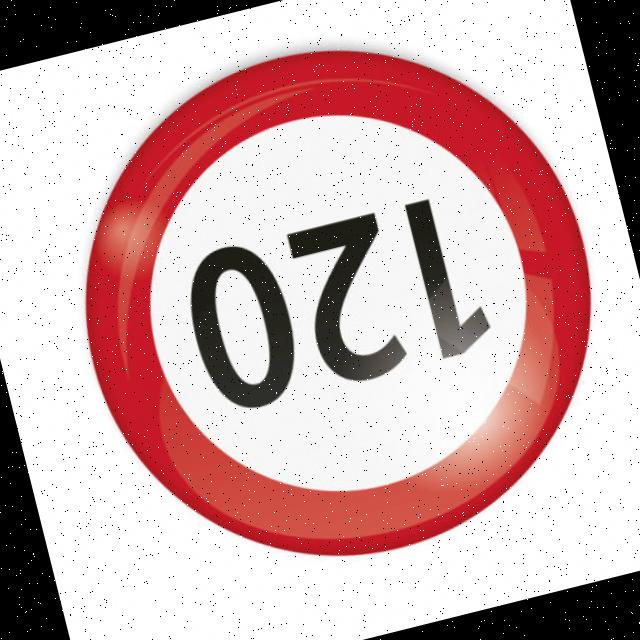speed_limit_120: (25, 0, 640, 615)
